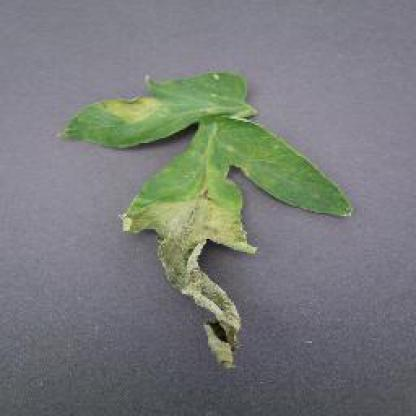bad leaf: (117, 69, 292, 376), (186, 120, 358, 226), (57, 91, 242, 151)
